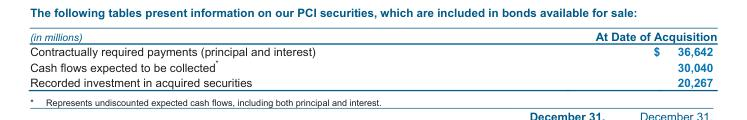table: (29, 29, 716, 88)
table column: (29, 29, 454, 88), (454, 29, 716, 88)
table column header: (29, 29, 716, 43)
table row: (29, 57, 716, 74), (29, 29, 716, 43), (29, 43, 716, 57), (29, 74, 716, 88)
